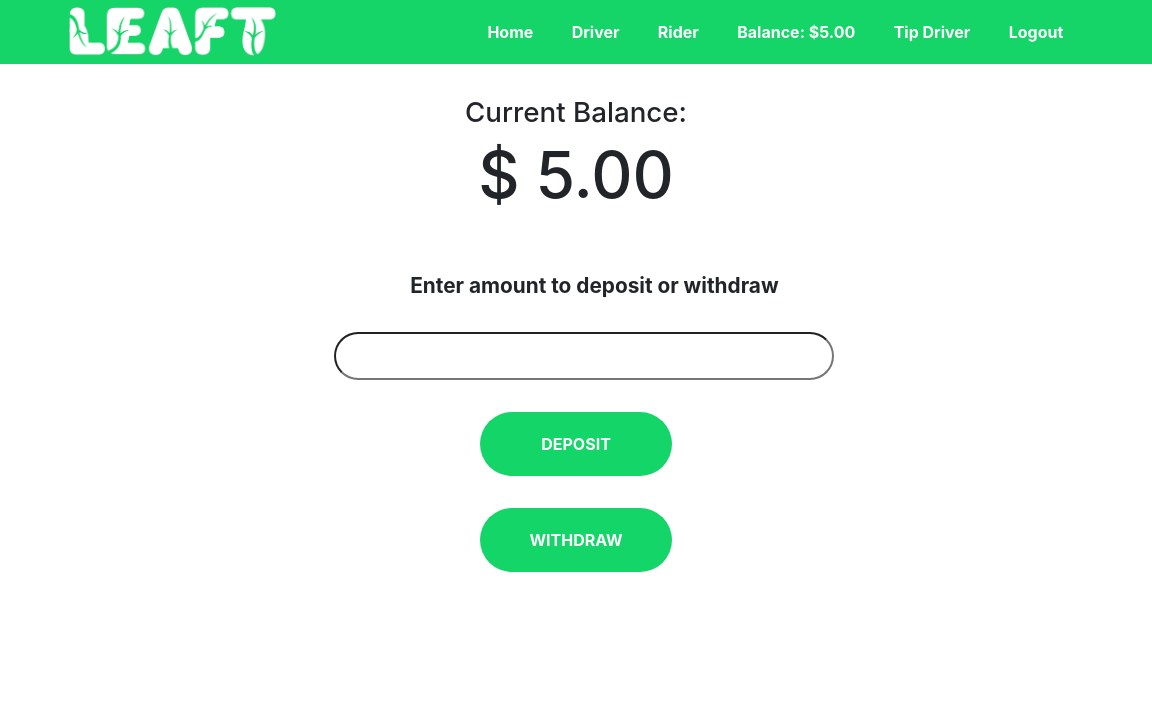
Test: Balance Update › should display an error when trying to withdraw more money than is in the account
Type "10" into the number field with test id "transfer-amount" at (584, 356), box [334,332,834,380]
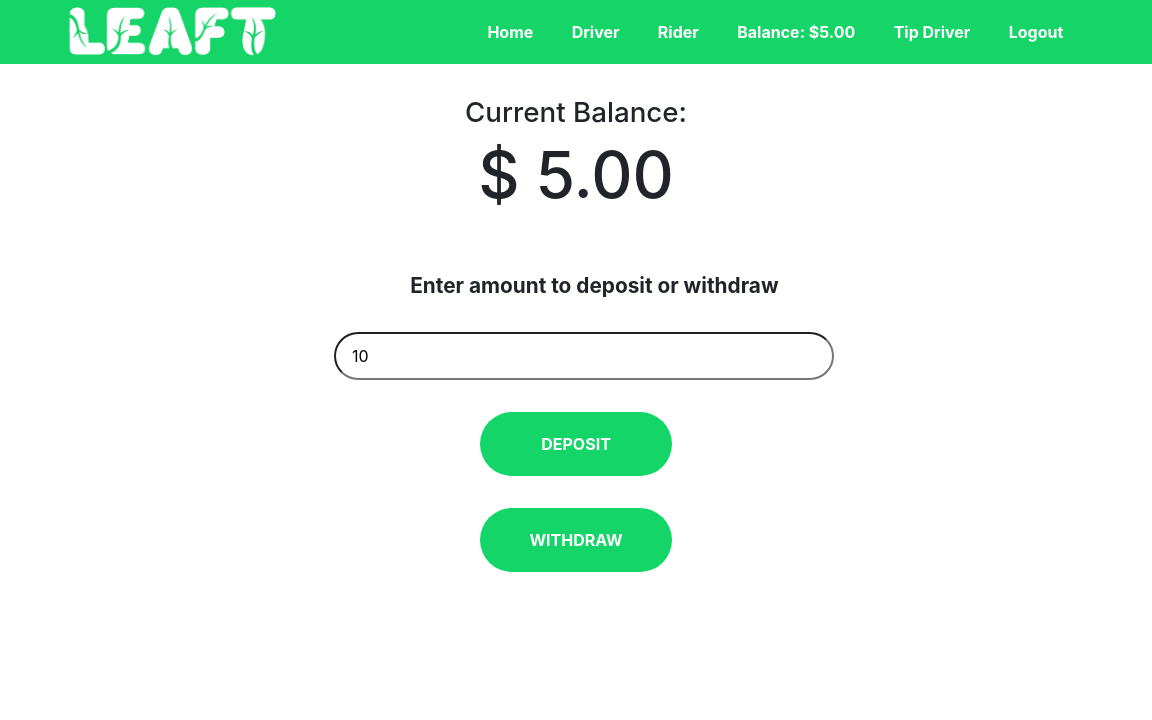
Click the button "Withdraw" at (576, 540), box [480,508,672,572]
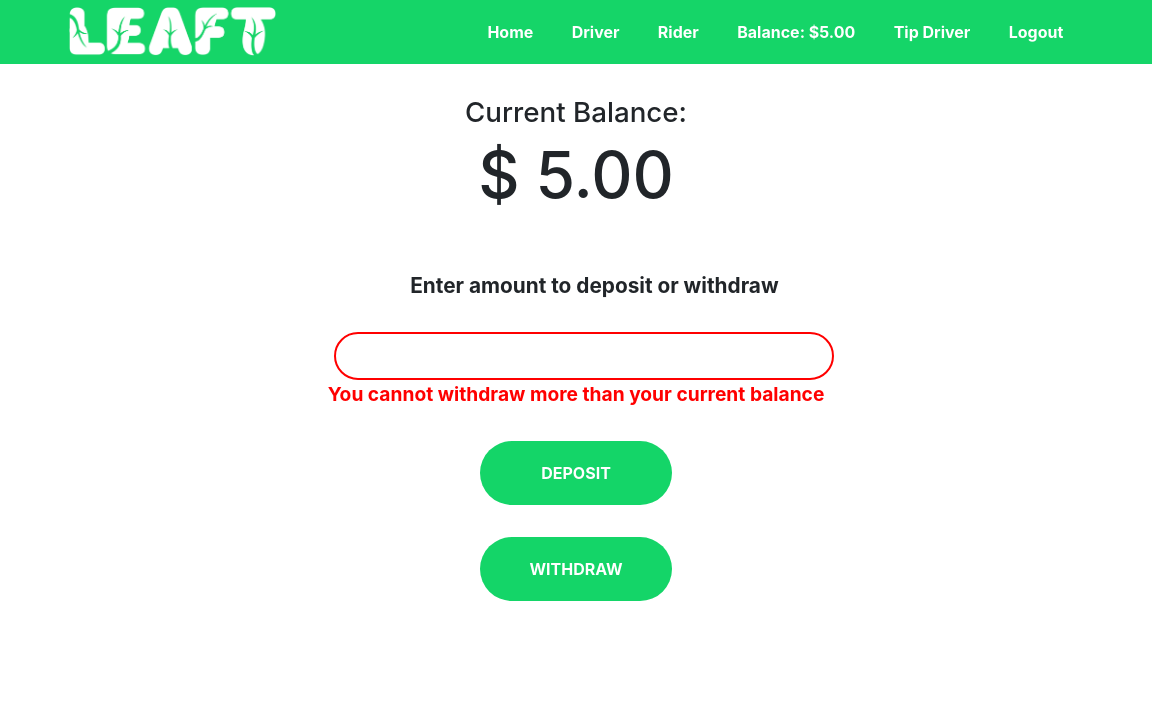
Expected: the text "You cannot withdraw more than your current balance" is shown, [328,382,824,406]
